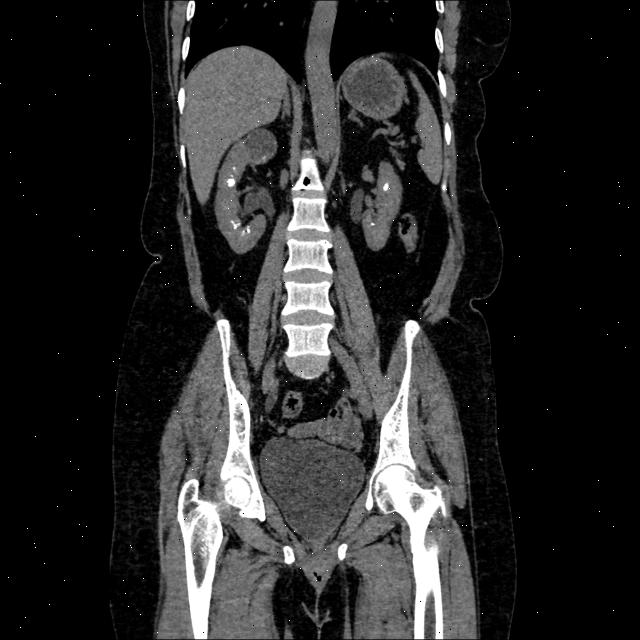kidneystone: (226, 177, 236, 187), (231, 221, 241, 229), (382, 182, 389, 191), (370, 221, 375, 226), (232, 167, 235, 170)
